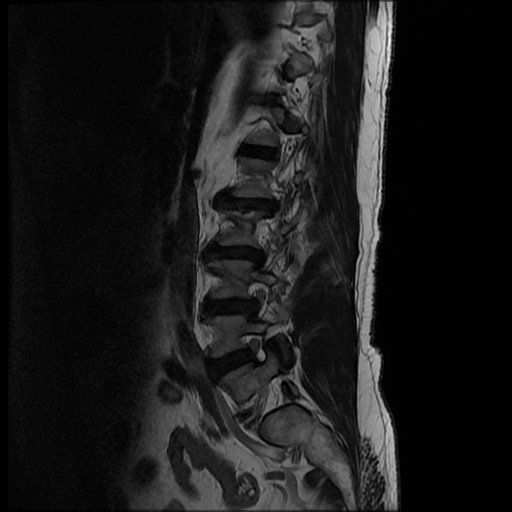RFS0: (234, 271, 276, 323), (233, 326, 277, 375)
